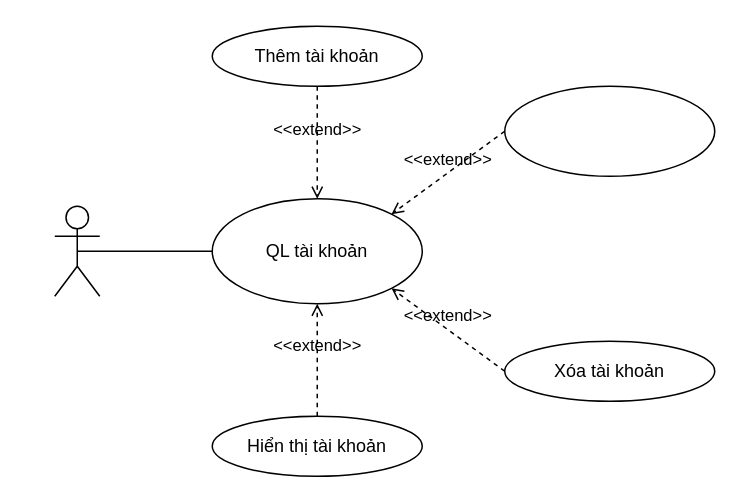
Image size: 741x503. Some labels were removed from this diagram. Each missing label, with the centre of its shape:
Cập nhật tài khoản (phân quyền, cập nhật tt...): pixel 609 130
Quản trị viên: pixel 76 250
